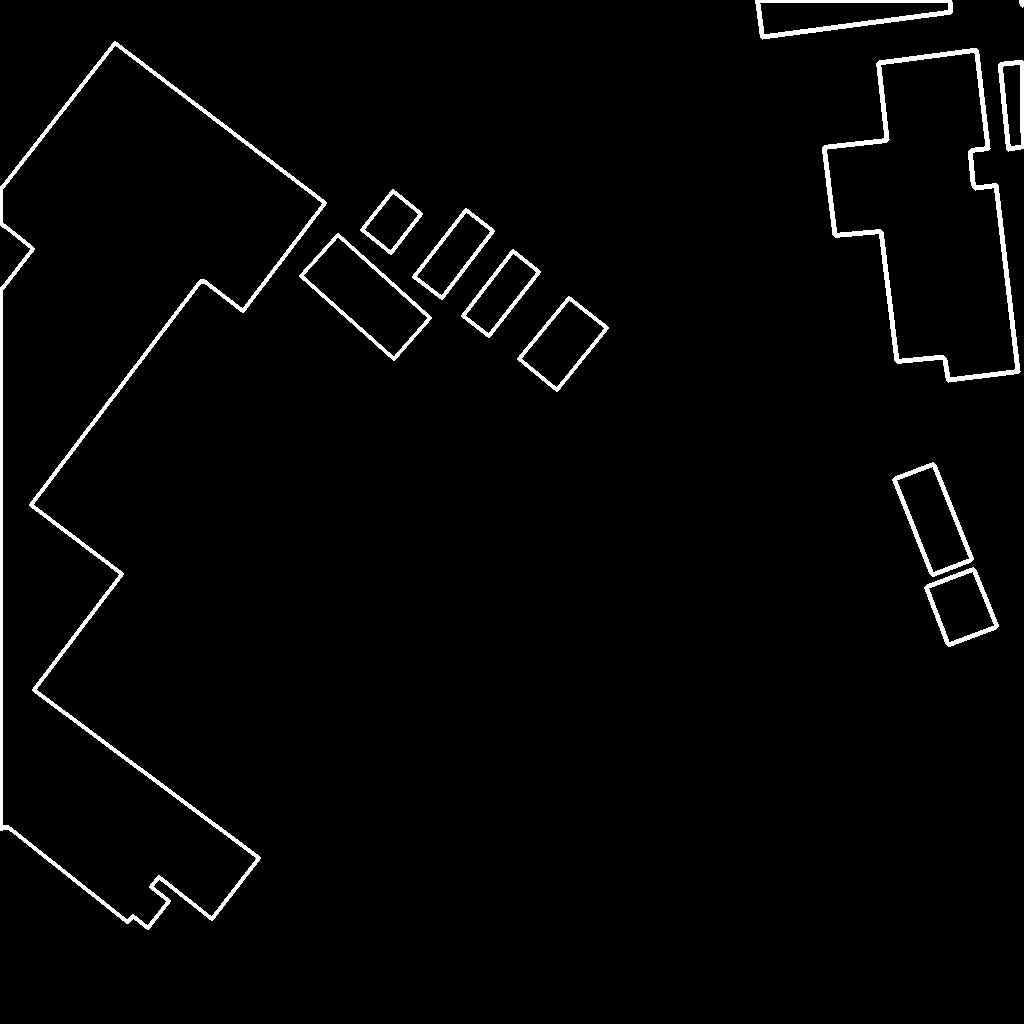building: (0, 43, 326, 929), (824, 50, 1019, 381), (301, 235, 431, 360), (894, 464, 973, 576), (519, 298, 608, 391), (757, 0, 952, 38), (414, 210, 494, 299), (463, 251, 540, 337), (926, 569, 998, 646), (362, 191, 422, 254), (1000, 62, 1024, 150), (1021, 0, 1024, 9)
